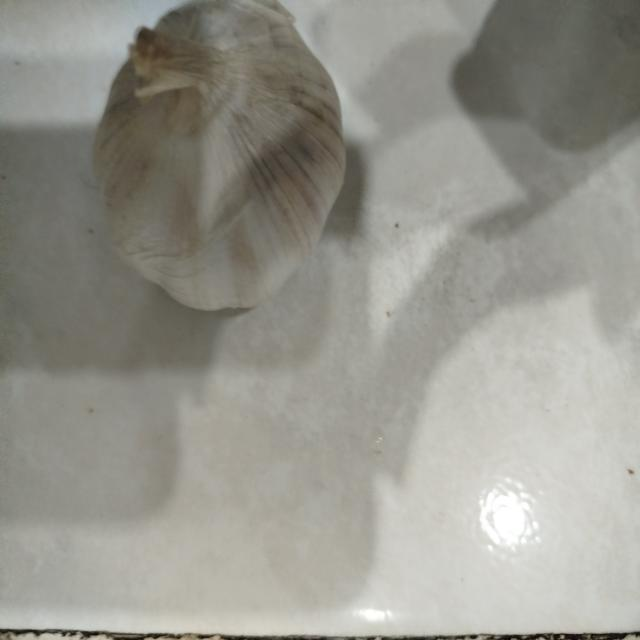garlic: (92, 0, 347, 313)
